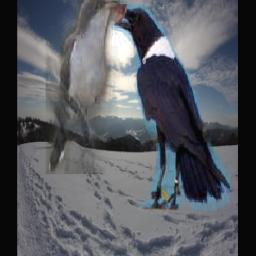Crow: (111, 5, 230, 211)
Cuckoo: (46, 0, 120, 174)
